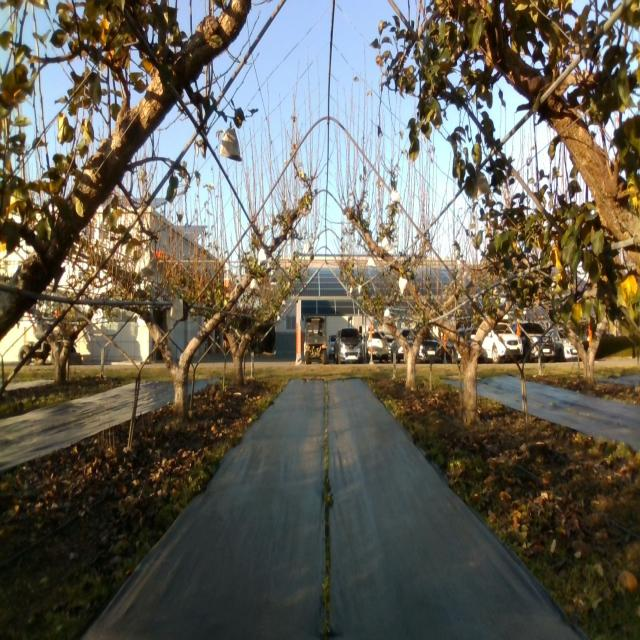pearbags: (218, 120, 243, 163), (135, 246, 157, 282), (471, 171, 491, 199), (462, 268, 474, 290)
